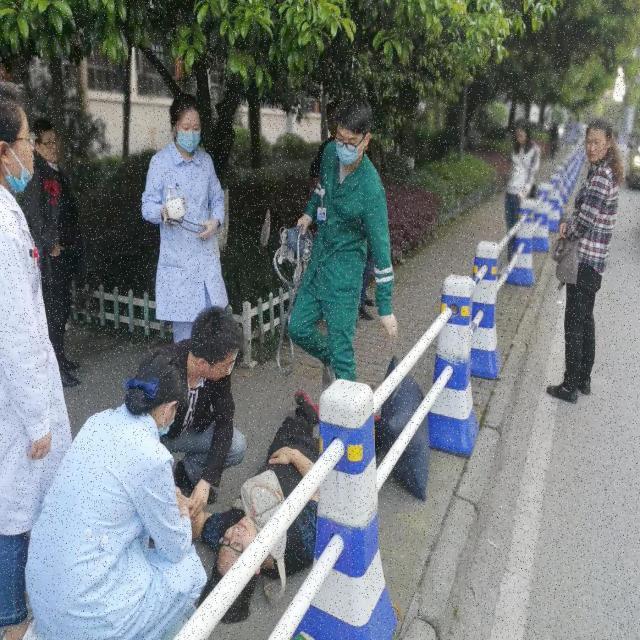fall: (220, 389, 356, 611)
